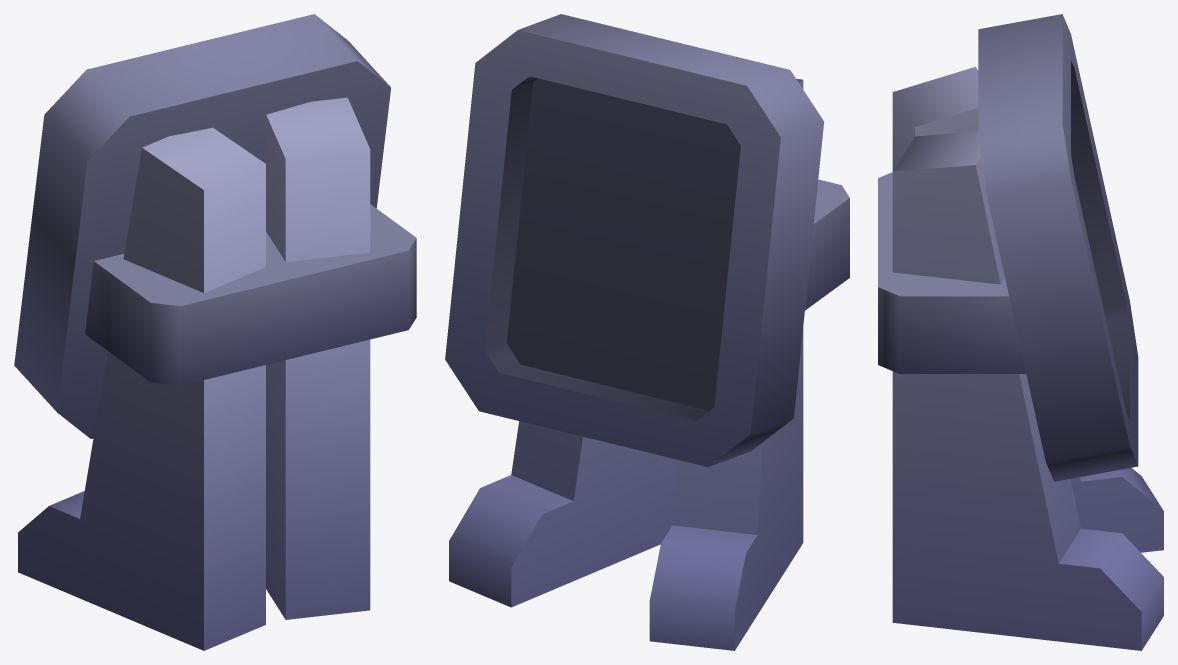
The model's file is screen-small.glb.
The picture shows the model from 3 angles, left to right: view 1: azimuth 30°, elevation 25°; view 2: azimuth 150°, elevation 25°; view 3: azimuth 270°, elevation 25°; orthographic projection. The views are drawn at different scales.
Visible parts, largest first — view 1: Group (×2), screen-small; view 2: screen-small, Group (×2); view 3: Group (×2), screen-small.
Boxes of the visible parts, x1,y1,x2,y2 form: Group (×2): (18, 97, 370, 650); screen-small: (14, 14, 416, 438); screen-small: (445, 14, 849, 466); Group (×2): (449, 79, 803, 650); Group (×2): (892, 66, 1163, 650); screen-small: (878, 14, 1138, 481).
Bounding box in the file's own units: 0.6 × 0.9913 × 0.4992.
